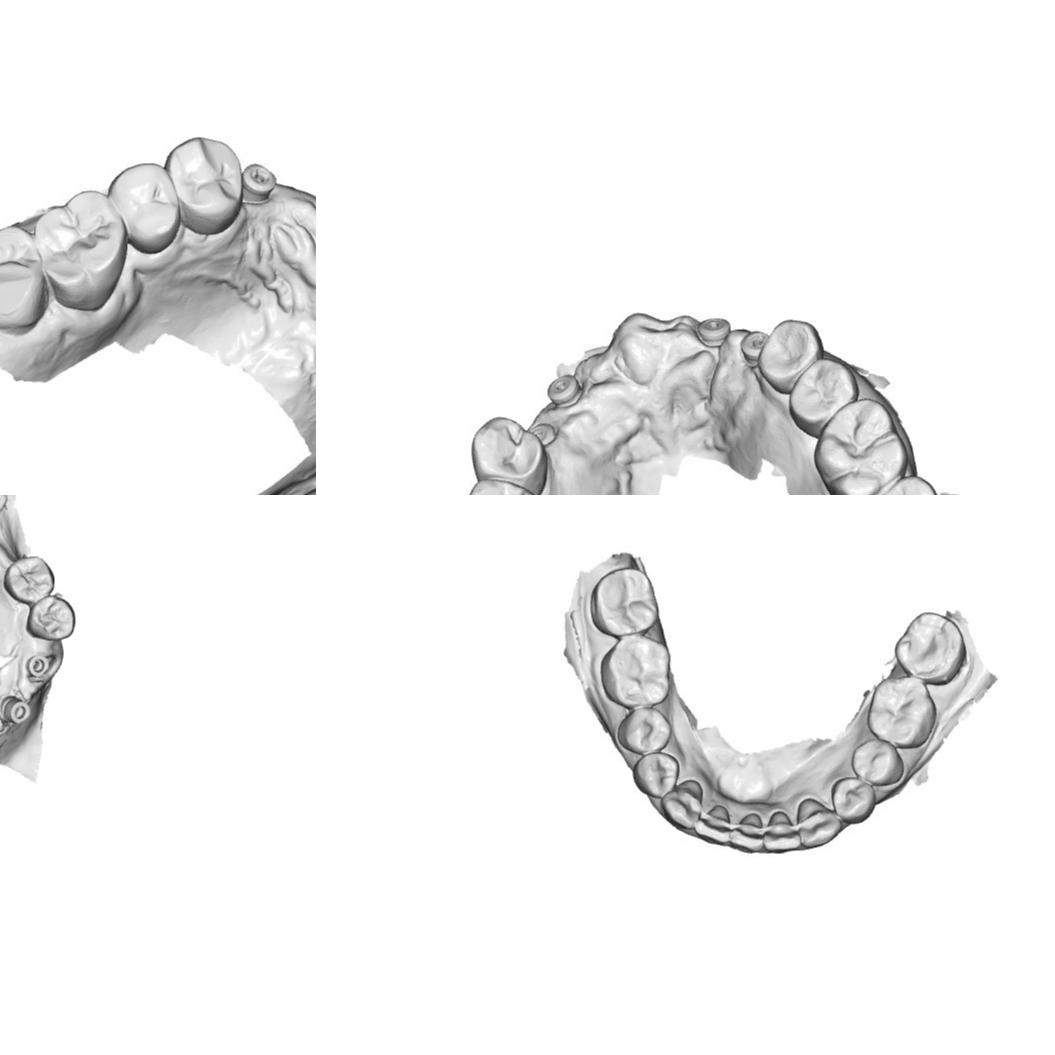canine: (796, 797, 842, 851), (660, 779, 705, 831)
implant: (547, 370, 592, 419), (695, 307, 732, 355), (737, 325, 772, 365), (524, 417, 558, 450), (0, 695, 31, 725), (24, 653, 50, 679)
implant_plus: (240, 161, 278, 204)
incisor: (691, 802, 733, 848), (762, 811, 804, 856), (727, 812, 765, 855)
molar: (33, 188, 127, 313), (811, 395, 910, 495), (598, 632, 674, 709), (892, 610, 967, 685), (865, 675, 937, 748), (587, 567, 660, 637), (0, 223, 46, 331), (856, 473, 948, 495)
premolar: (164, 134, 244, 236), (106, 161, 184, 254), (786, 354, 858, 438), (468, 416, 547, 487), (758, 315, 824, 398), (1, 554, 56, 606), (617, 705, 673, 754), (850, 739, 905, 787), (24, 594, 76, 641), (631, 751, 680, 799), (830, 776, 875, 823), (462, 475, 545, 495)
